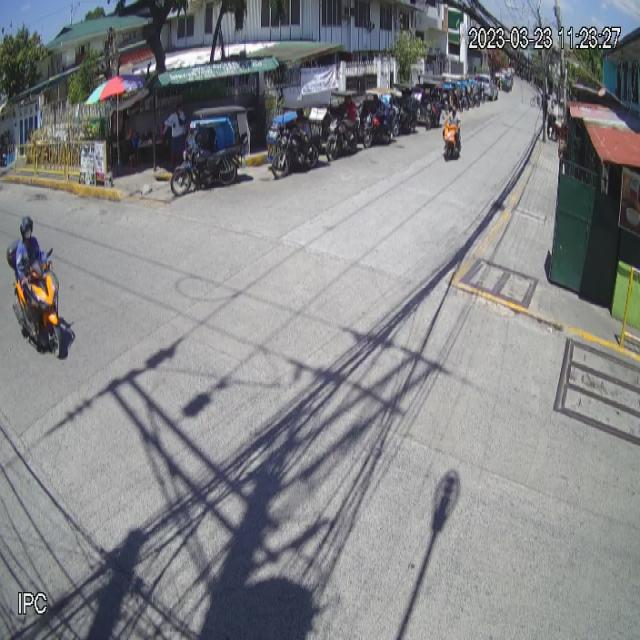Motorcycle: (7, 240, 63, 358)
